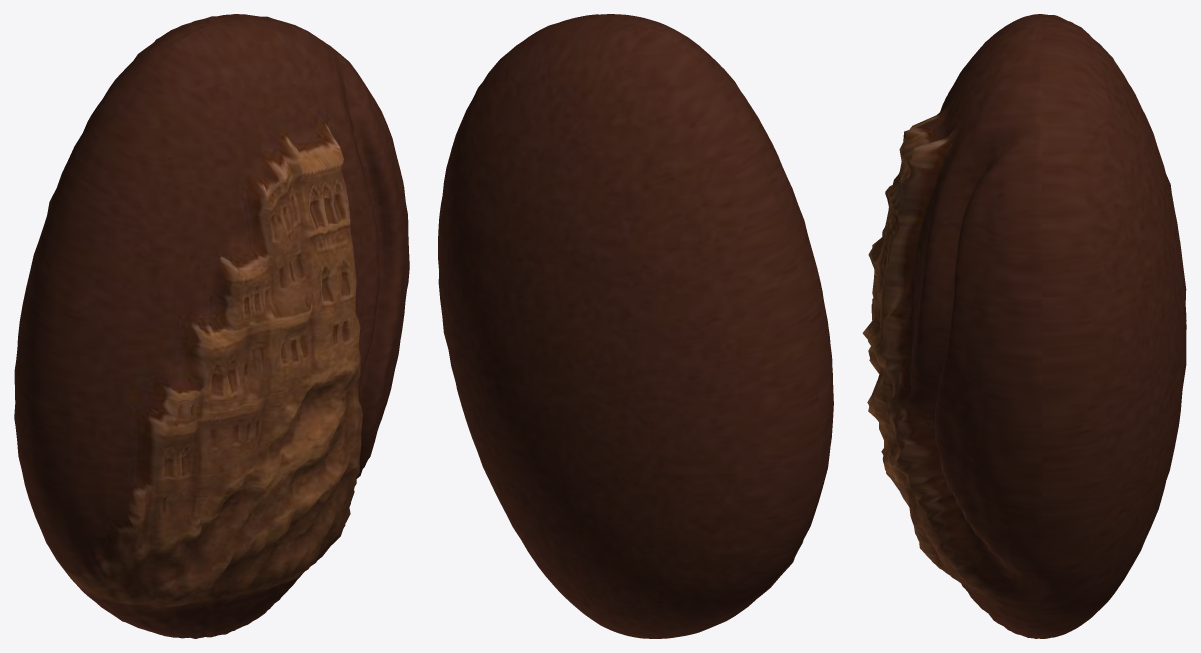
Rendered from dar-al-hajar.glb.
3 renders of one model, left to right at view 1: azimuth 30°, elevation 25°; view 2: azimuth 150°, elevation 25°; view 3: azimuth 270°, elevation 25°, orthographic.
Parts seen in each view (by area): view 1: dar-al-hajar; view 2: dar-al-hajar; view 3: dar-al-hajar.
Part boxes in pixels (x1,y1,x2,y2): dar-al-hajar: (14, 14, 409, 638); dar-al-hajar: (438, 14, 833, 638); dar-al-hajar: (862, 14, 1186, 638).
Size of the model in its own units: 1.12 by 1.76 by 0.8508.
1 material, 1 textured.
